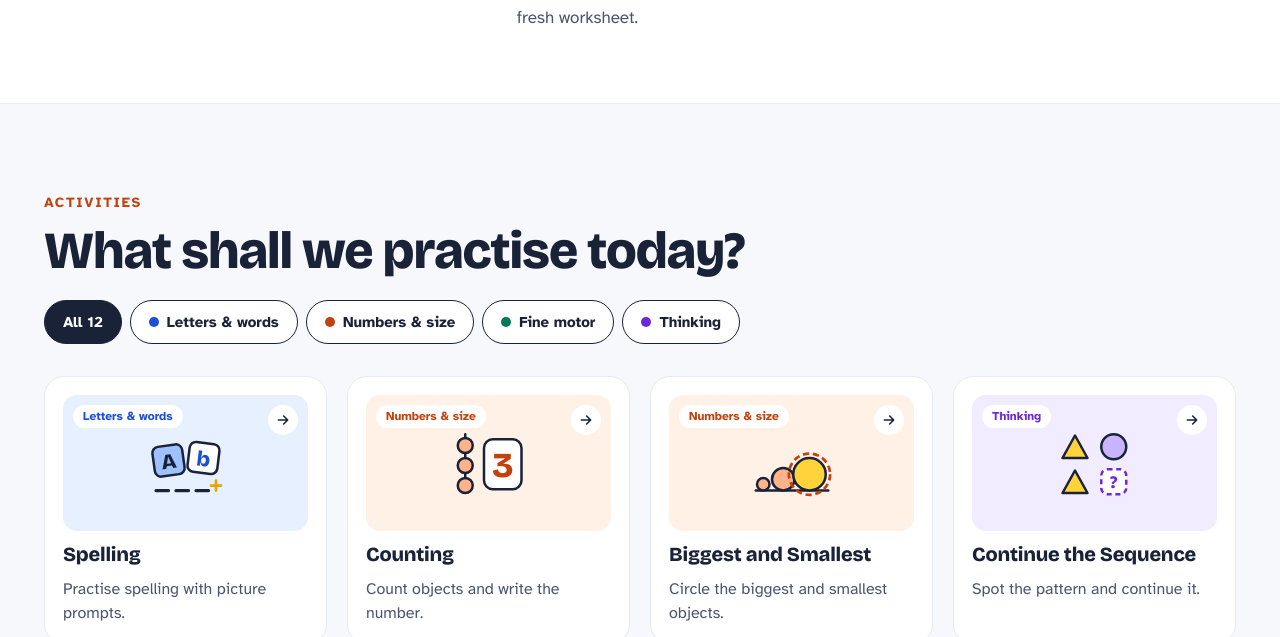
Test case: HomeComponent › should filter the activities by category and mark the pressed filter
The image size is (1280, 637).
(page scrolled)
Click the button with class "filter" showing "Fine motor" at (548, 322), box left=482, top=300, right=614, bottom=344
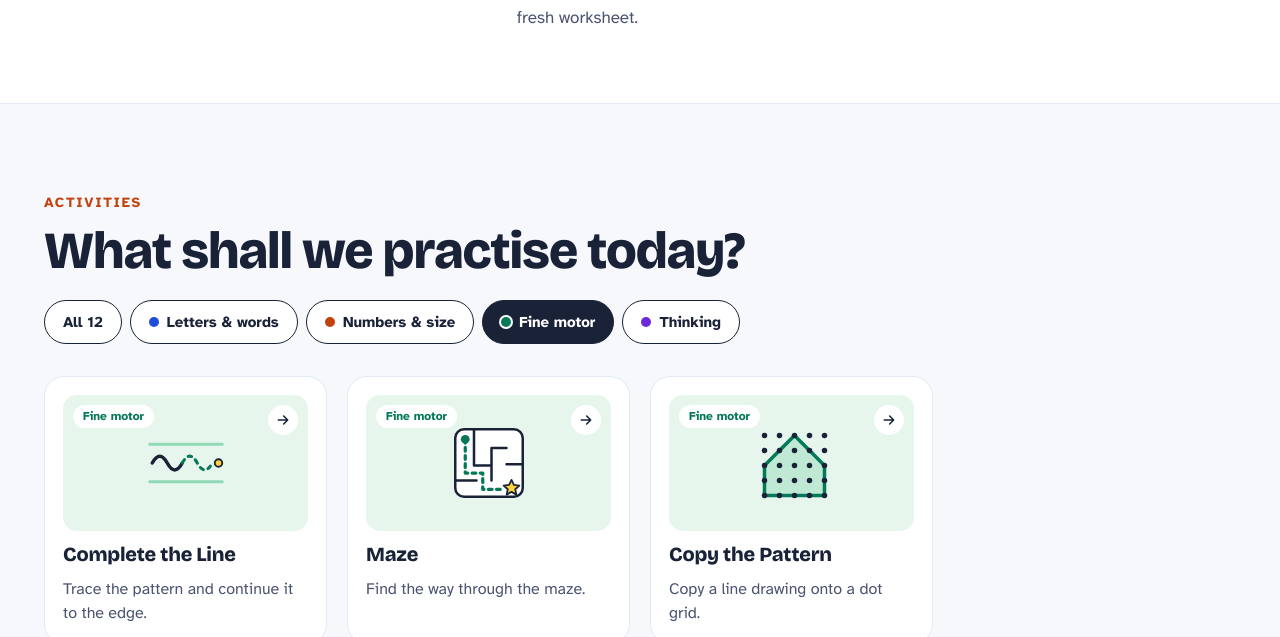
Now the button with class "filter" is pressed, box left=482, top=300, right=614, bottom=344
Now the button with class "filter" is not pressed
Click the button with class "filter" showing "All 12" at (83, 322), box left=44, top=300, right=122, bottom=344
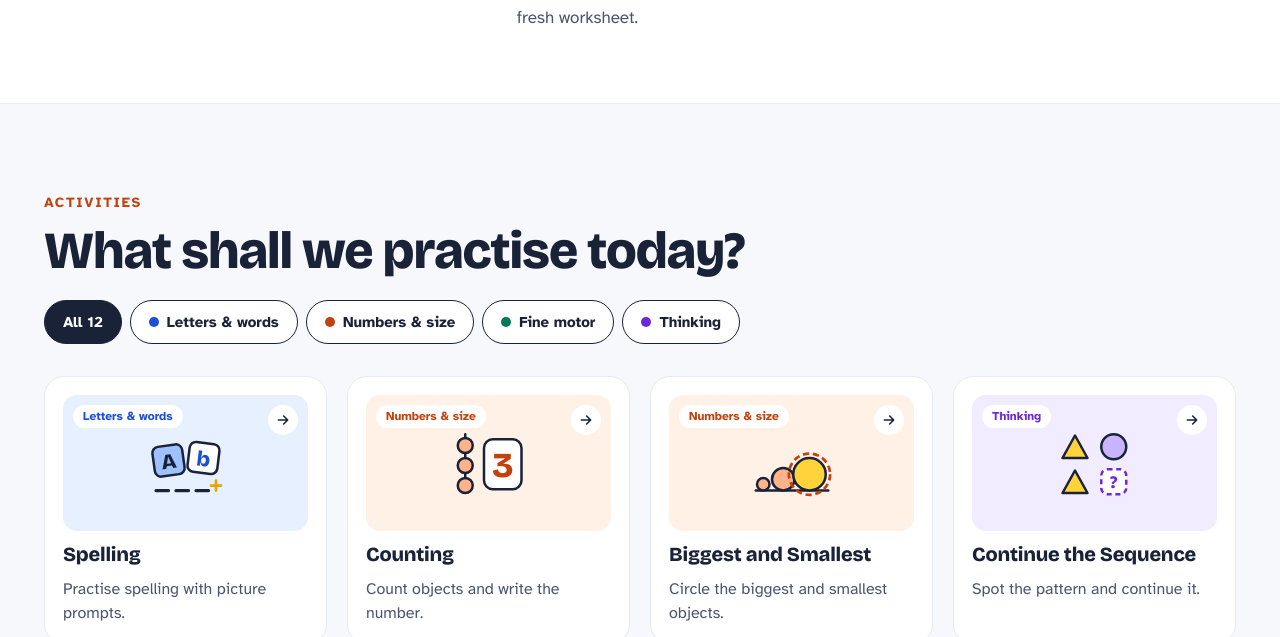
Now the number of links with class "activity-card" is 12
